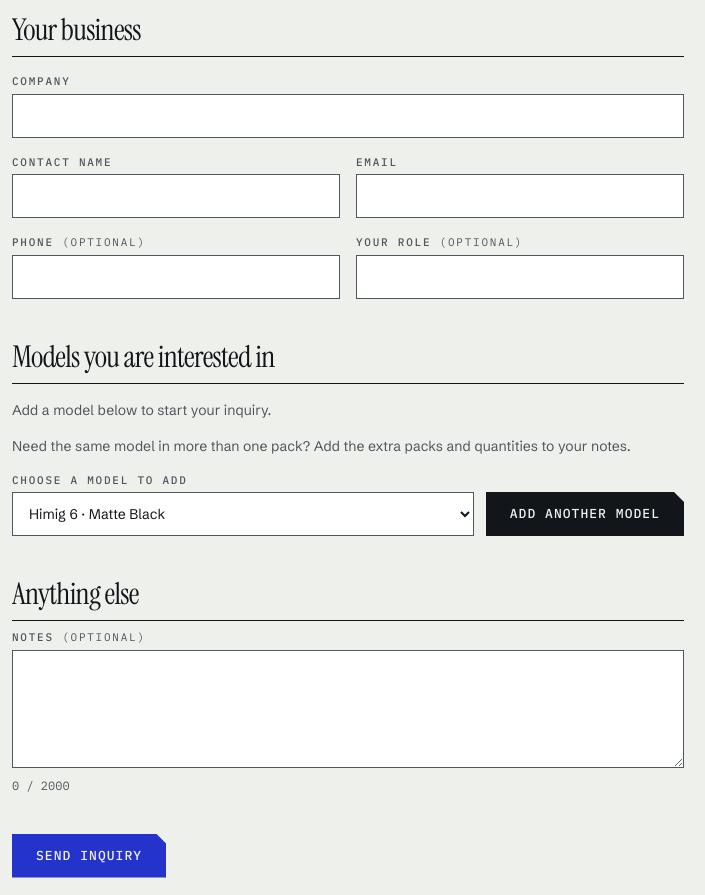
Test: InquiryForm validation › puts maxLength from the limits on the fields and counts the notes
Type "hello" into the text box labelled "Notes (optional)" at (348, 708), box [12,650,684,768]
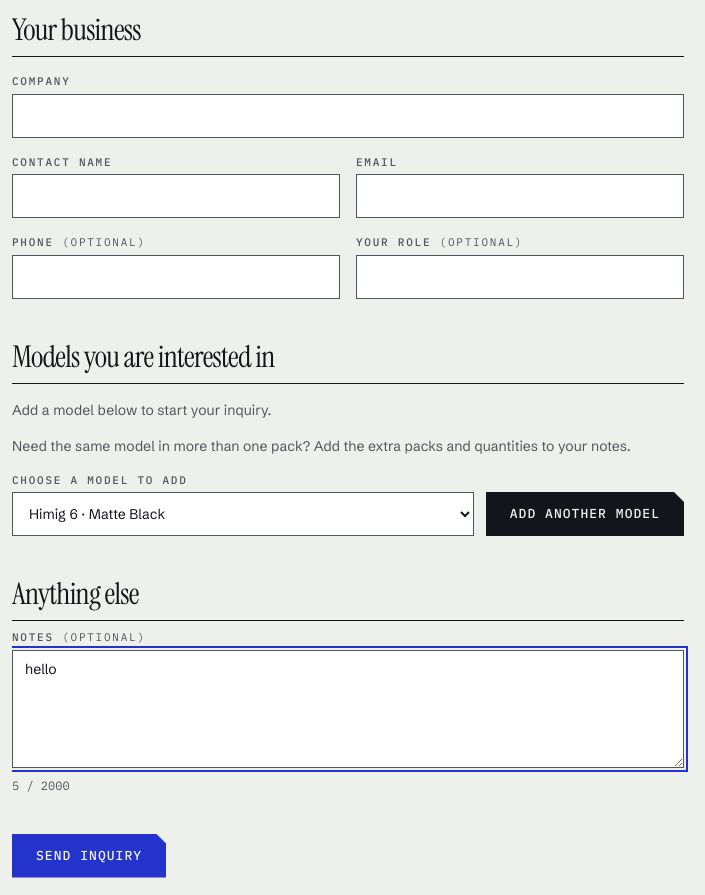
expect the text "5 / 2000" is shown: met, box [12,778,70,792]
